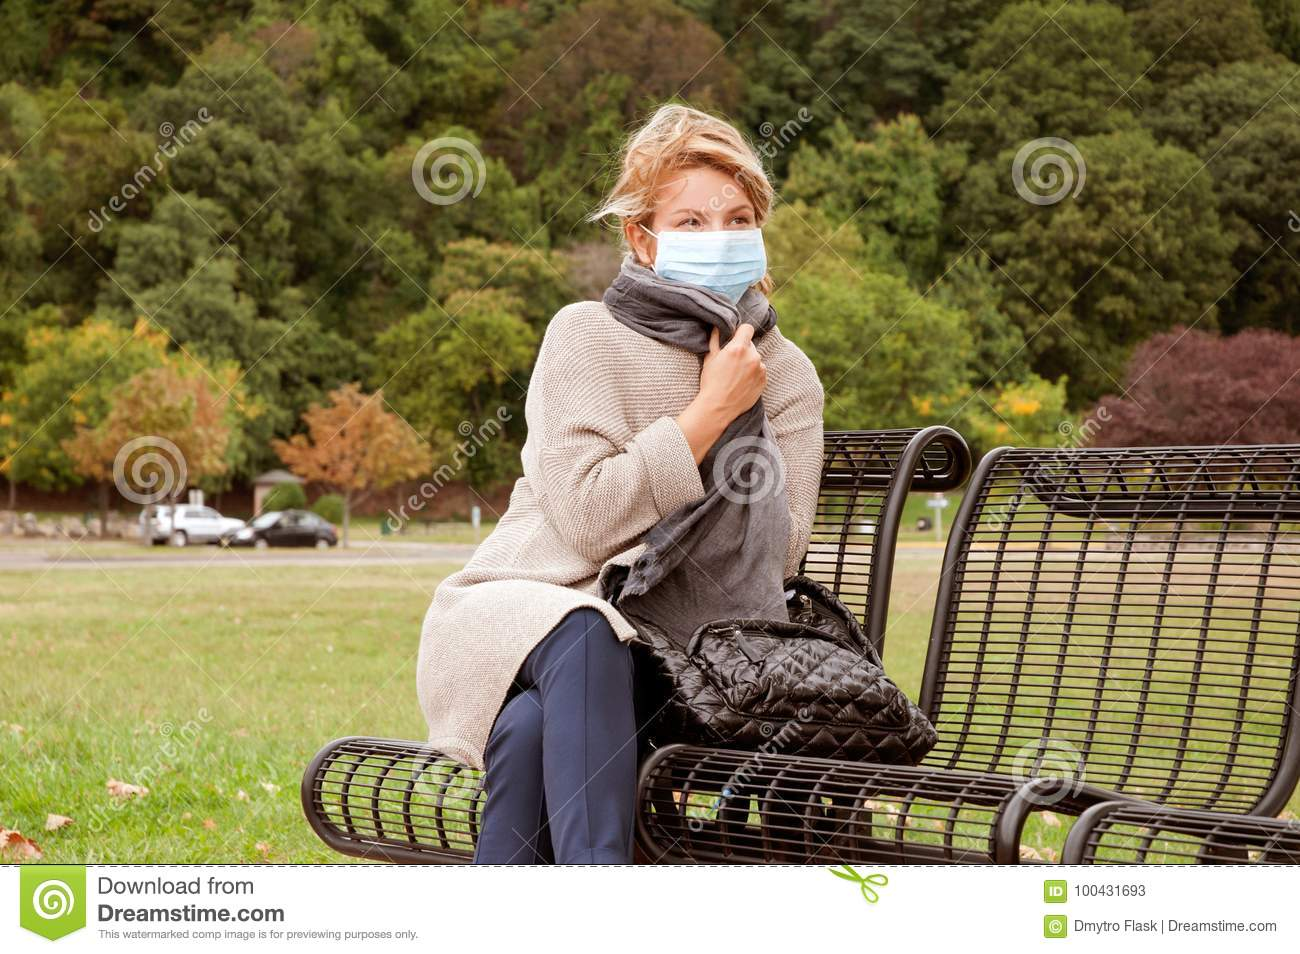mask: (650, 225, 767, 299)
